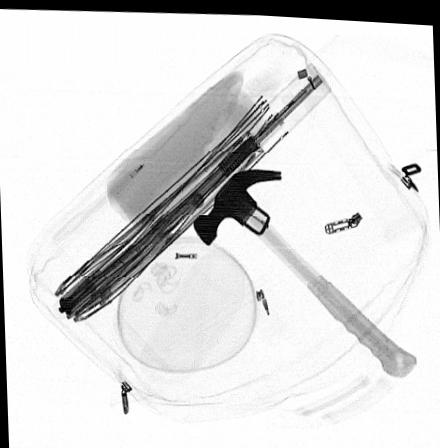Hammer: (191, 165, 415, 372)
